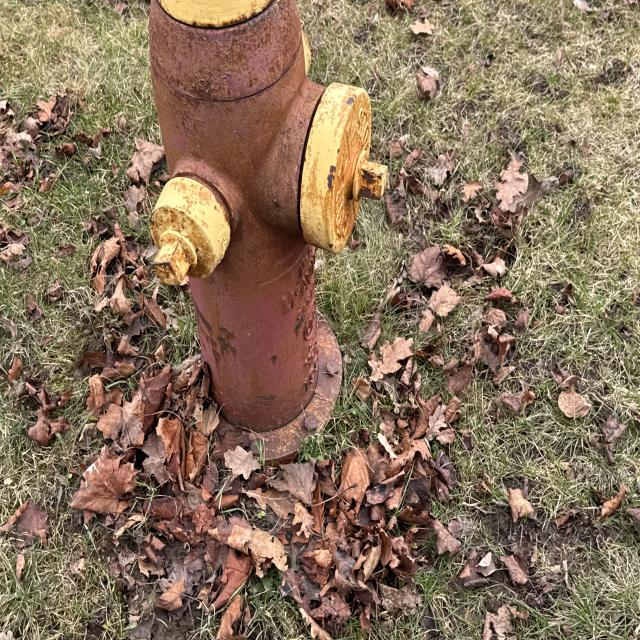Fire hydrant: (143, 1, 390, 488)
